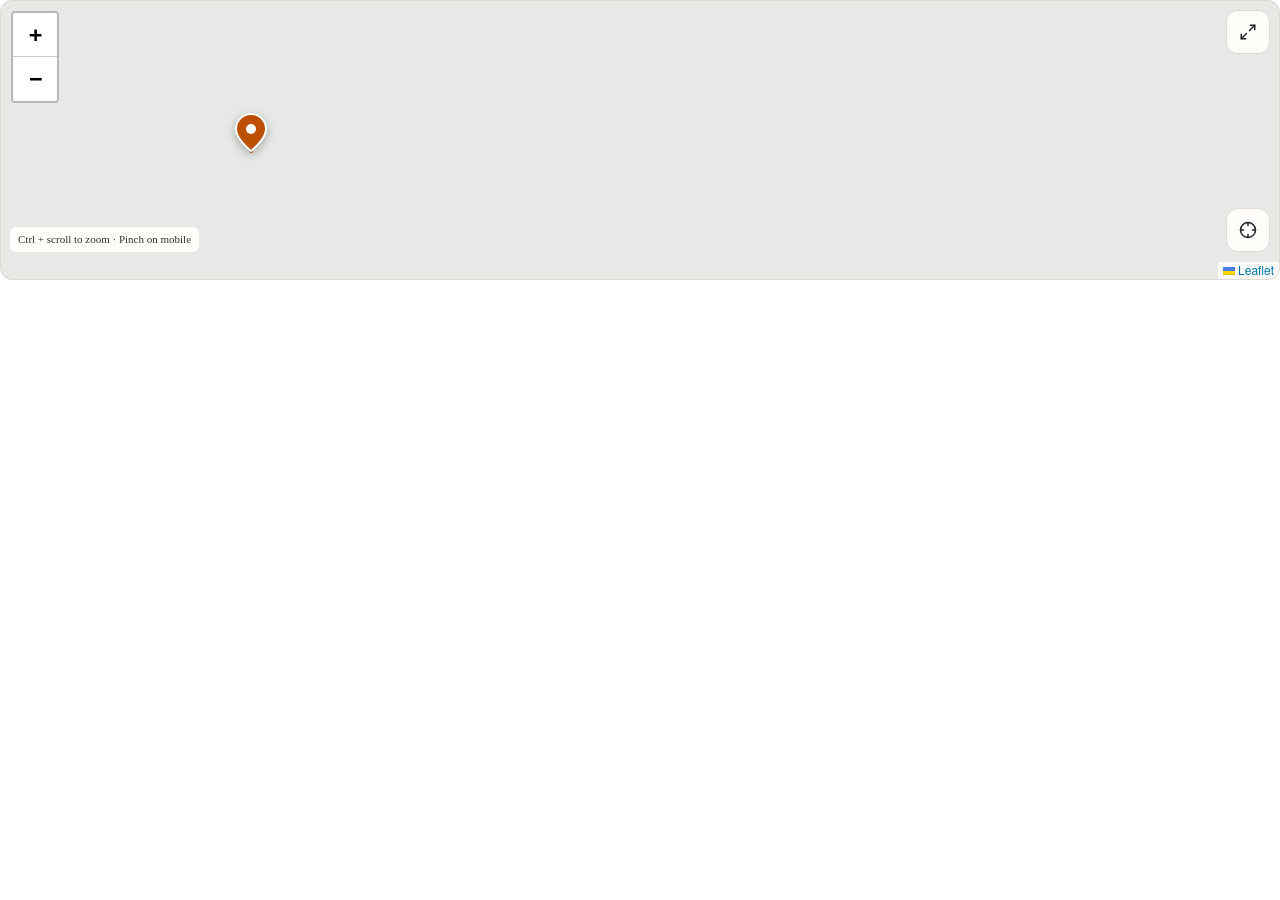
Test: location map lifecycle with real Leaflet › exits with Escape without closing an enclosing form dialog
Check: the button named "Zoom in" is shown, box left=13, top=13, right=57, bottom=57
Click the button named "Expand map to full screen".
click(1248, 32)  # box left=1226, top=10, right=1270, bottom=54
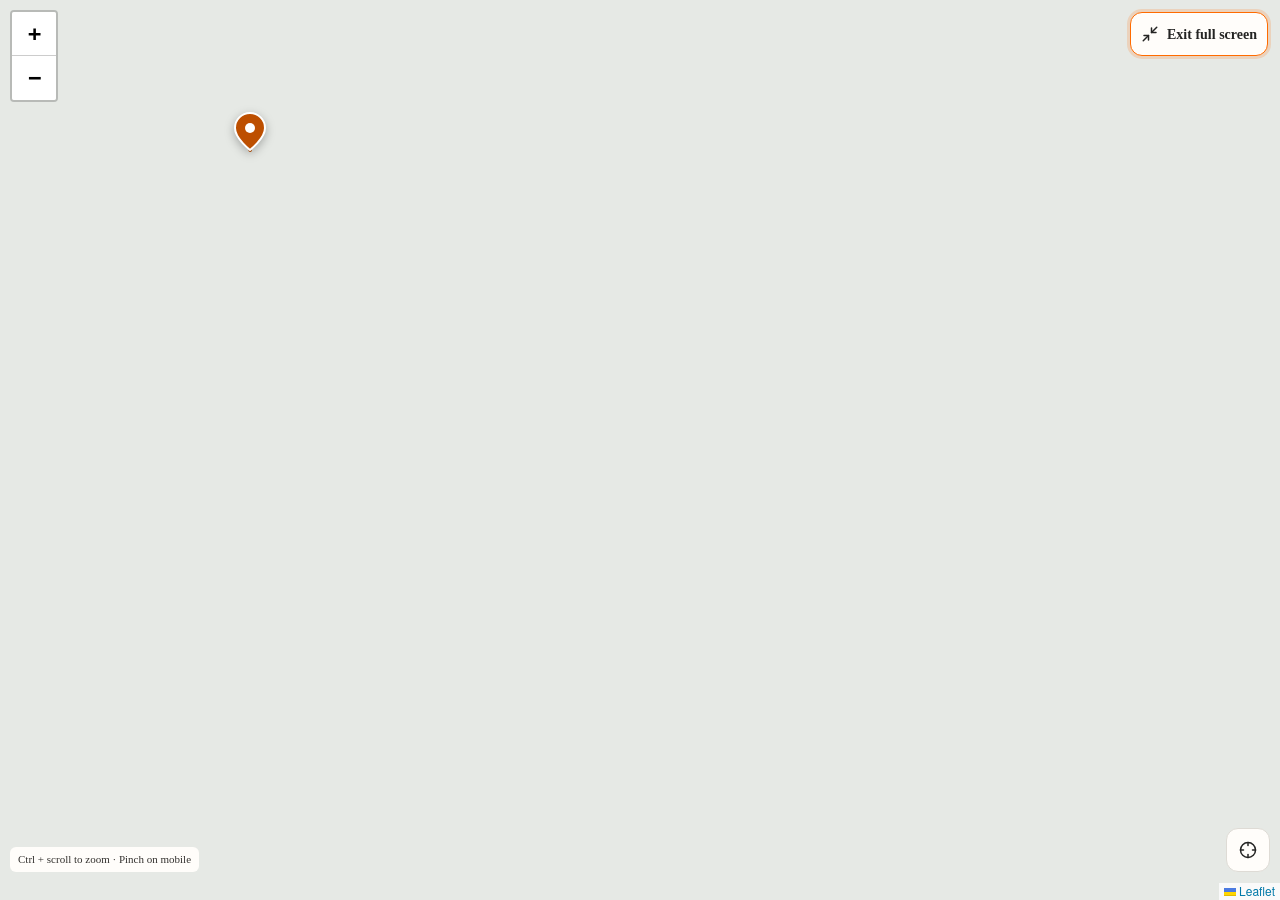
Check: the button named "Zoom in" is shown, box left=12, top=12, right=56, bottom=56
Press Tab in the button "Exit full screen", box left=1130, top=12, right=1268, bottom=56
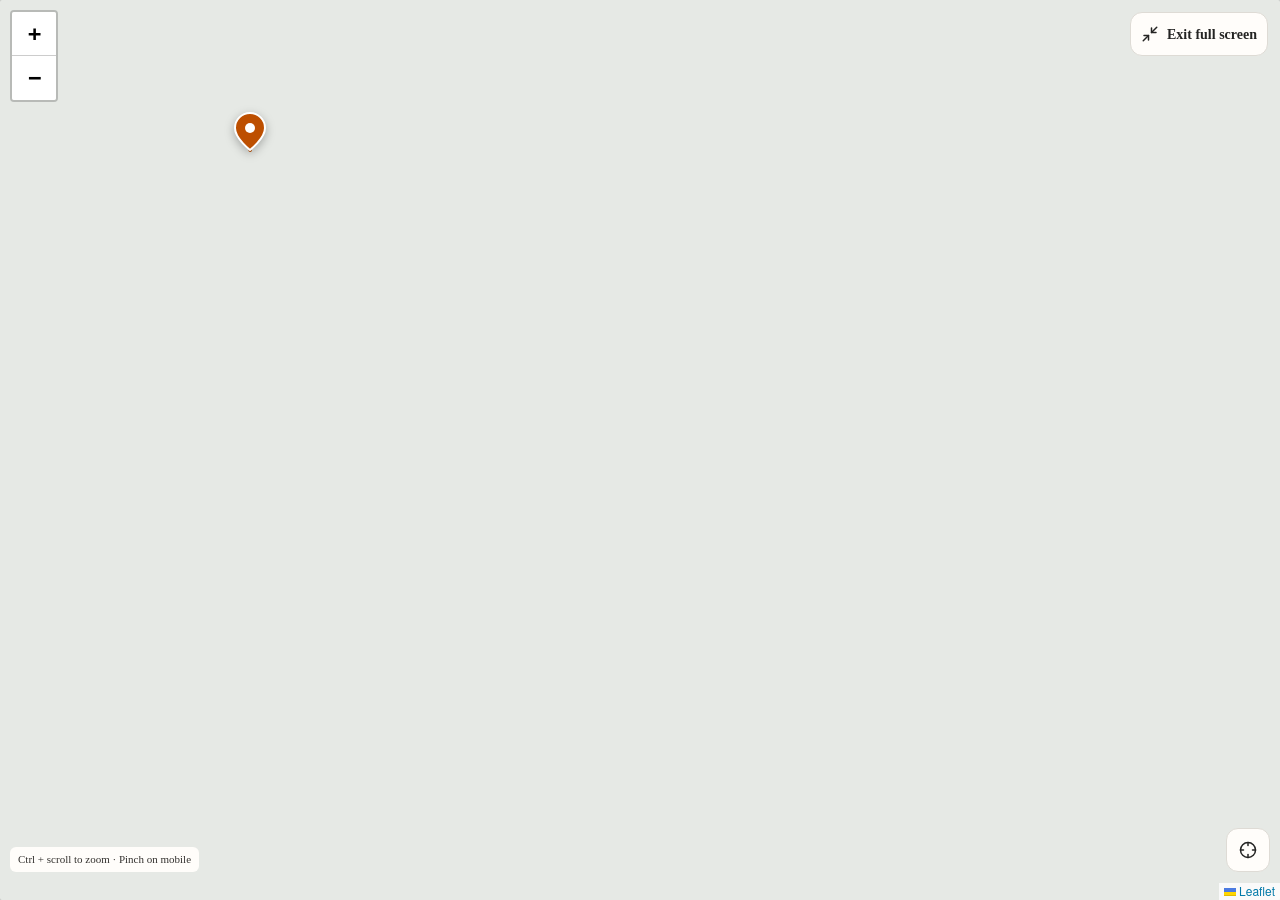
Press Escape in the button "Exit full screen", box left=1130, top=12, right=1268, bottom=56
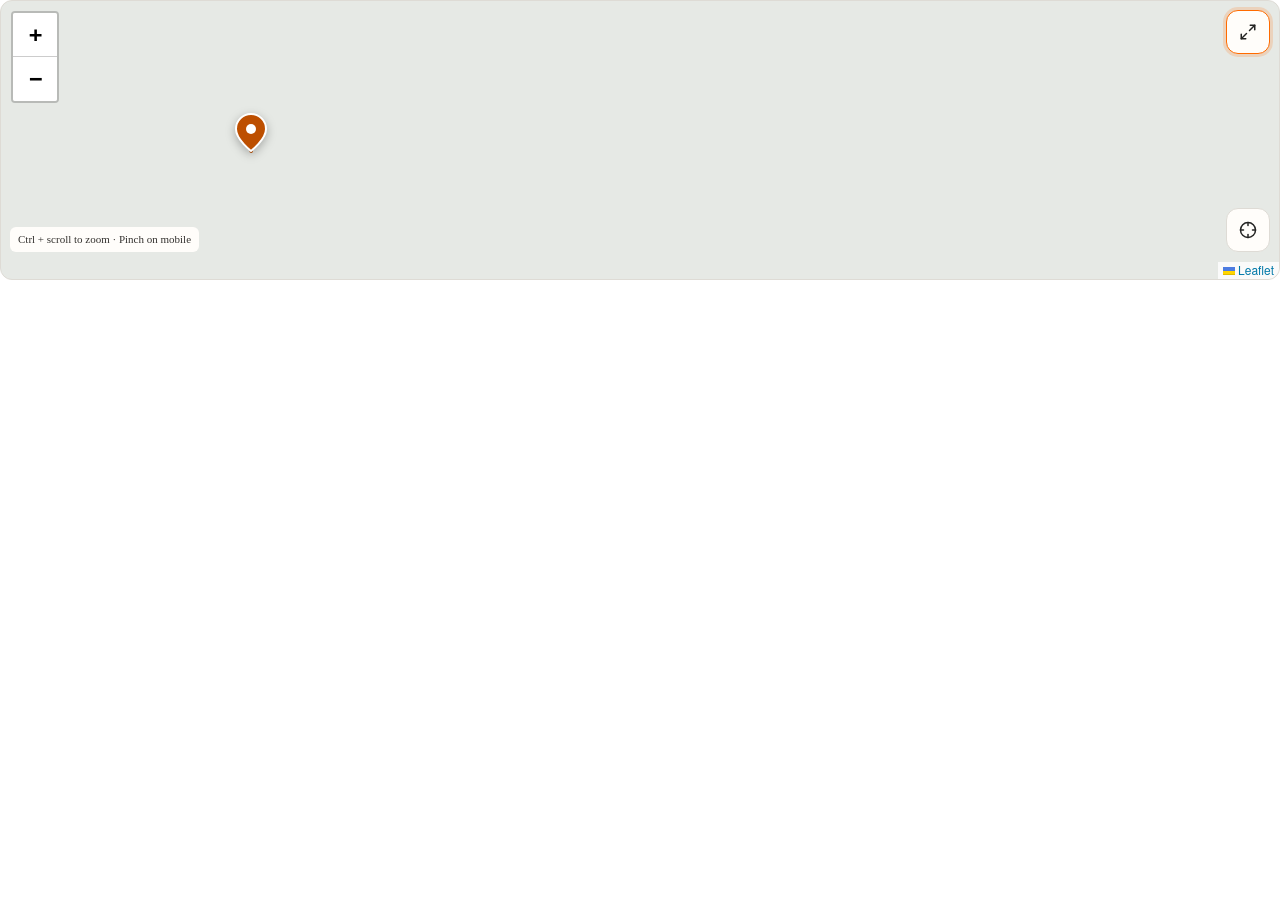
Check: the dialog is gone
